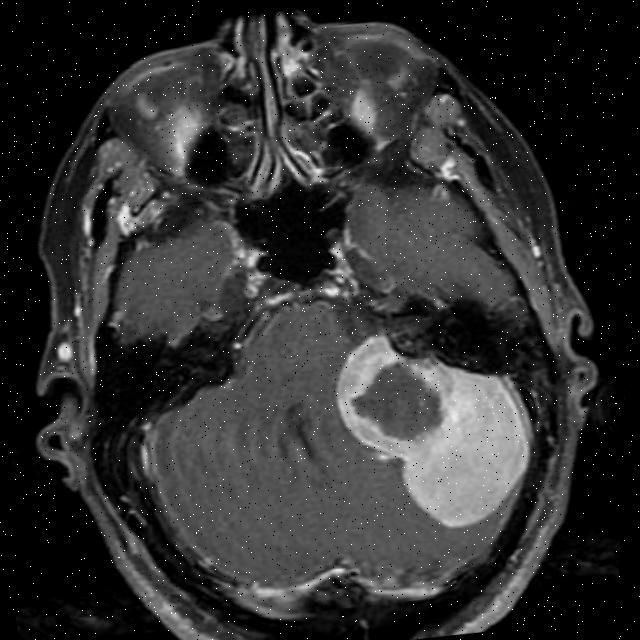Meningioma: (321, 311, 552, 546)
